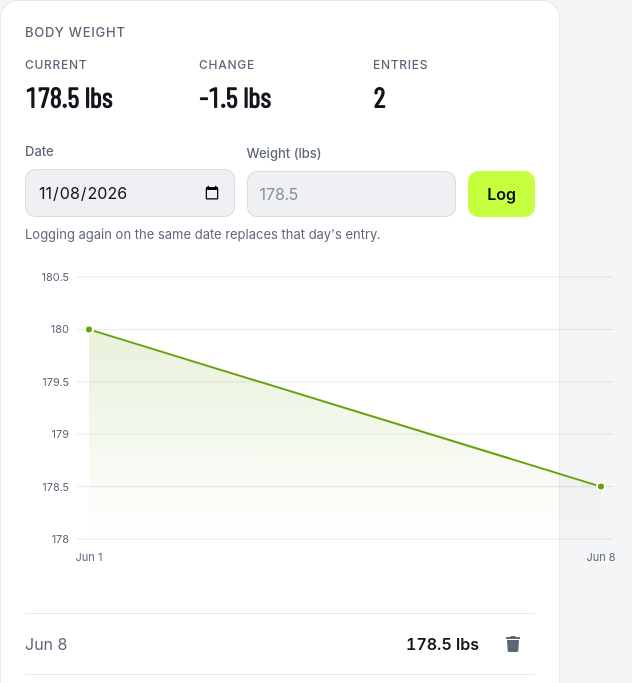
logs a weight for the chosen date and clears the field on success
Type "2025-06-09" into the date field labelled "Date" at coordinates (130, 193), box [25,169,235,217]
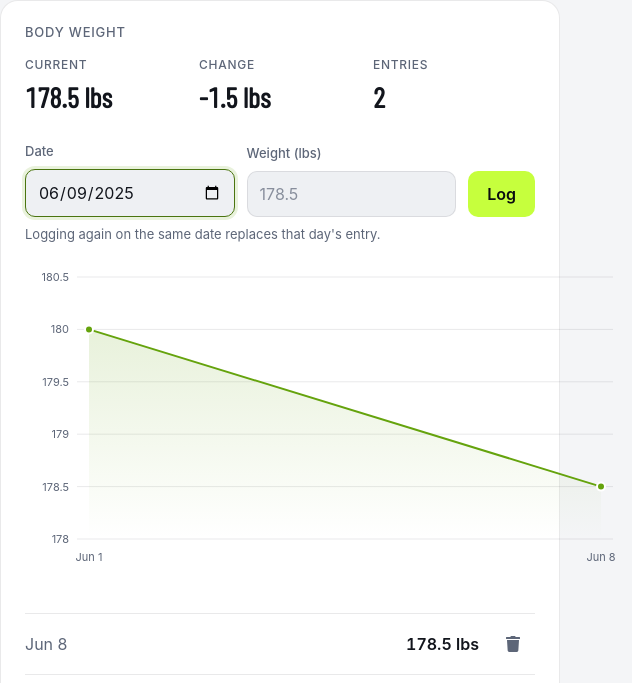
Type "177.4" into the number field labelled "Weight (lbs)" at coordinates (351, 194), box [247,171,456,217]
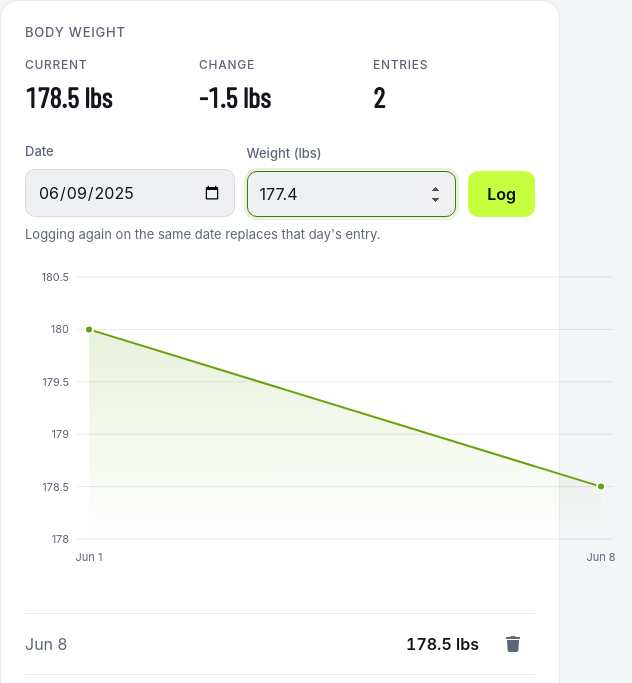
Click the button "Log" at coordinates (502, 194), box [468,171,535,217]
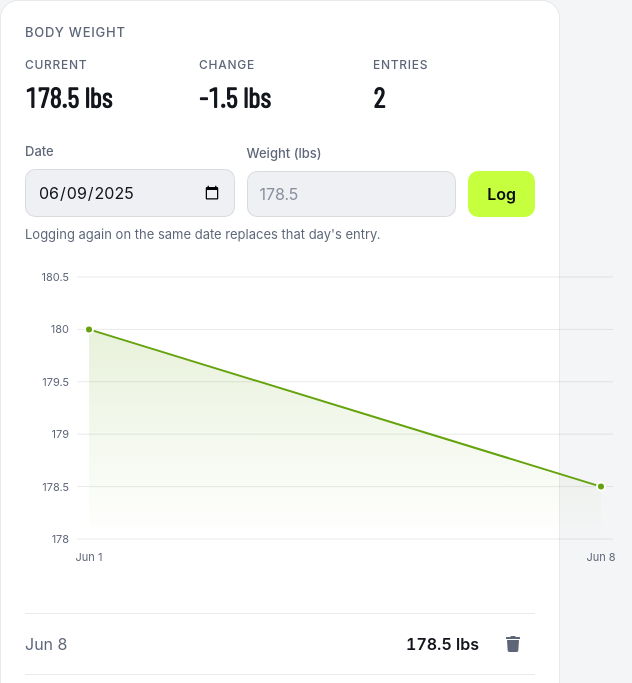
Expected: the number field labelled "Weight (lbs)" is not empty, [247,171,456,217]
